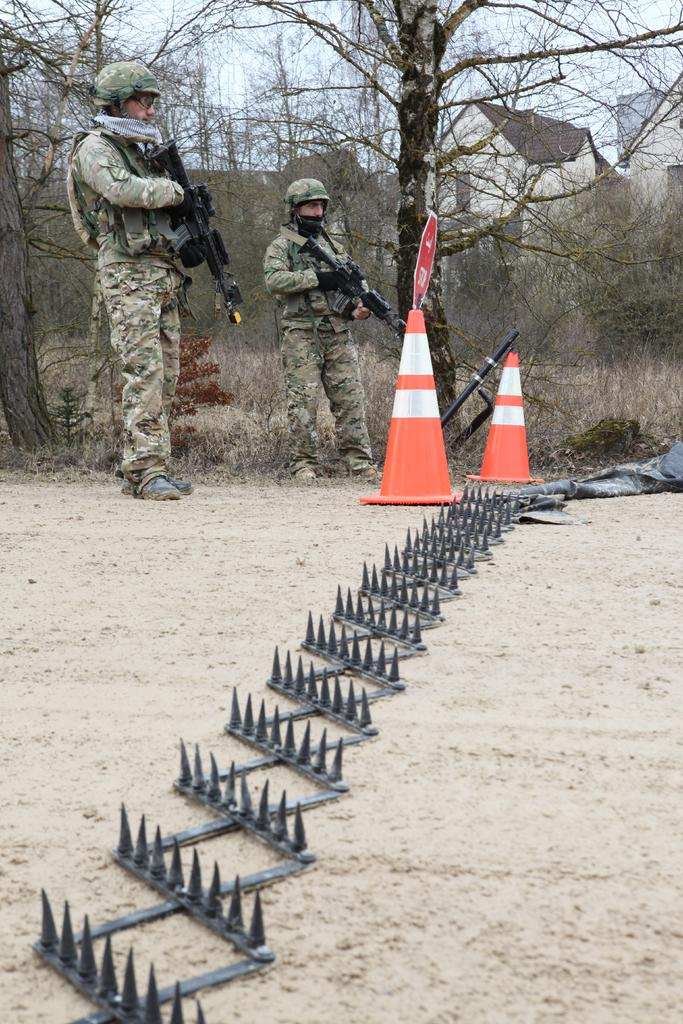Rifle: (143, 135, 241, 323), (292, 233, 409, 338)
